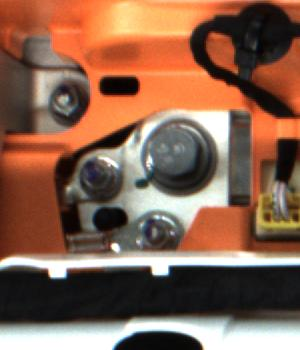nut_b: (138, 118, 217, 194)
screw_s: (75, 154, 120, 198), (43, 81, 84, 122), (135, 211, 170, 249)
